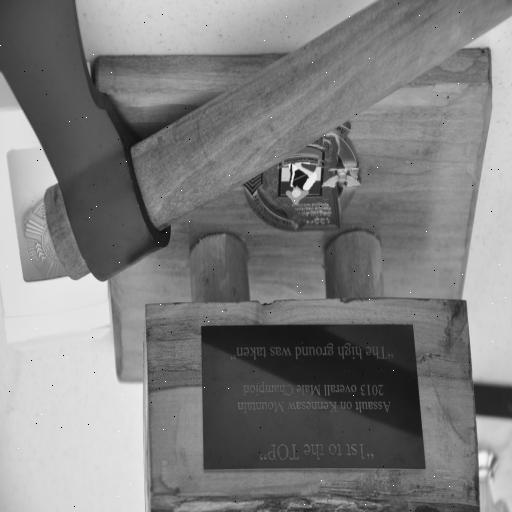Axe: (0, 0, 512, 284)
